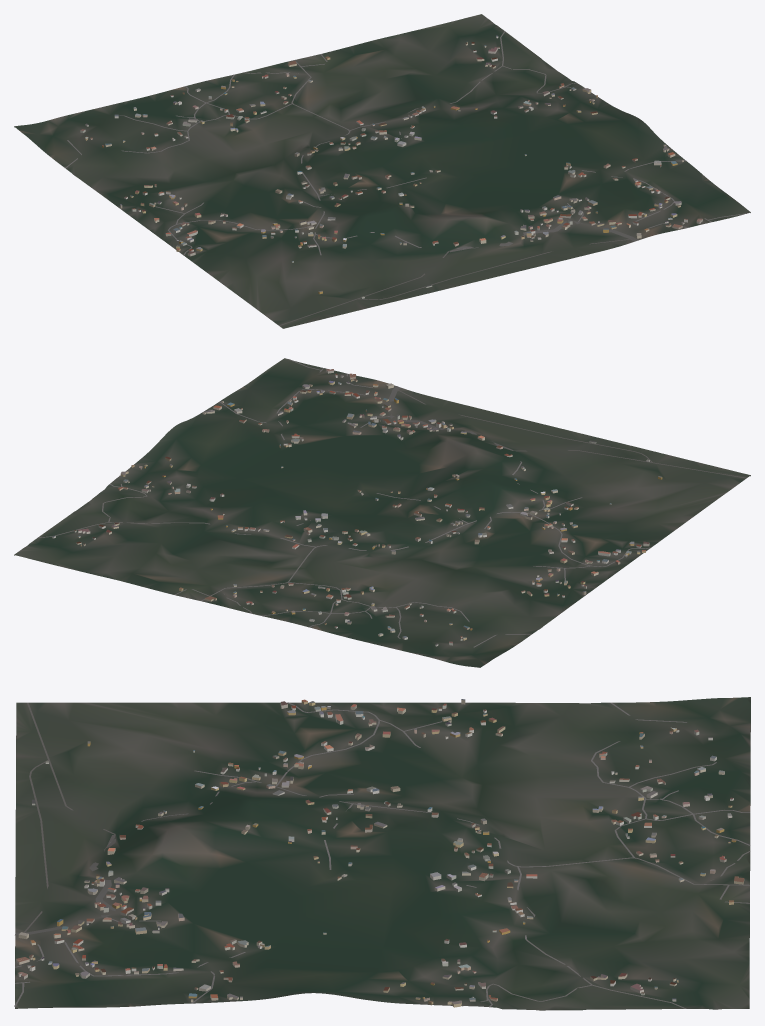
The picture shows the model from 3 angles, top to bottom: view 1: azimuth 30°, elevation 25°; view 2: azimuth 150°, elevation 25°; view 3: azimuth 270°, elevation 25°; orthographic projection. The views are drawn at different scales.
Parts seen in each view (by area): view 1: ground, buildings, roads; view 2: ground, buildings, roads; view 3: ground, buildings, roads.
Boxes of the visible parts, bbox=[...] form: ground: bbox=[14, 14, 750, 328]; buildings: bbox=[80, 35, 702, 298]; roads: bbox=[65, 31, 746, 325]; ground: bbox=[14, 358, 750, 667]; buildings: bbox=[52, 369, 662, 646]; roads: bbox=[37, 359, 746, 647]; ground: bbox=[15, 697, 750, 1010]; buildings: bbox=[16, 699, 744, 1007]; roads: bbox=[14, 702, 750, 1008].
Bounding box in the file's own units: 1408 × 45.63 × 1406.
